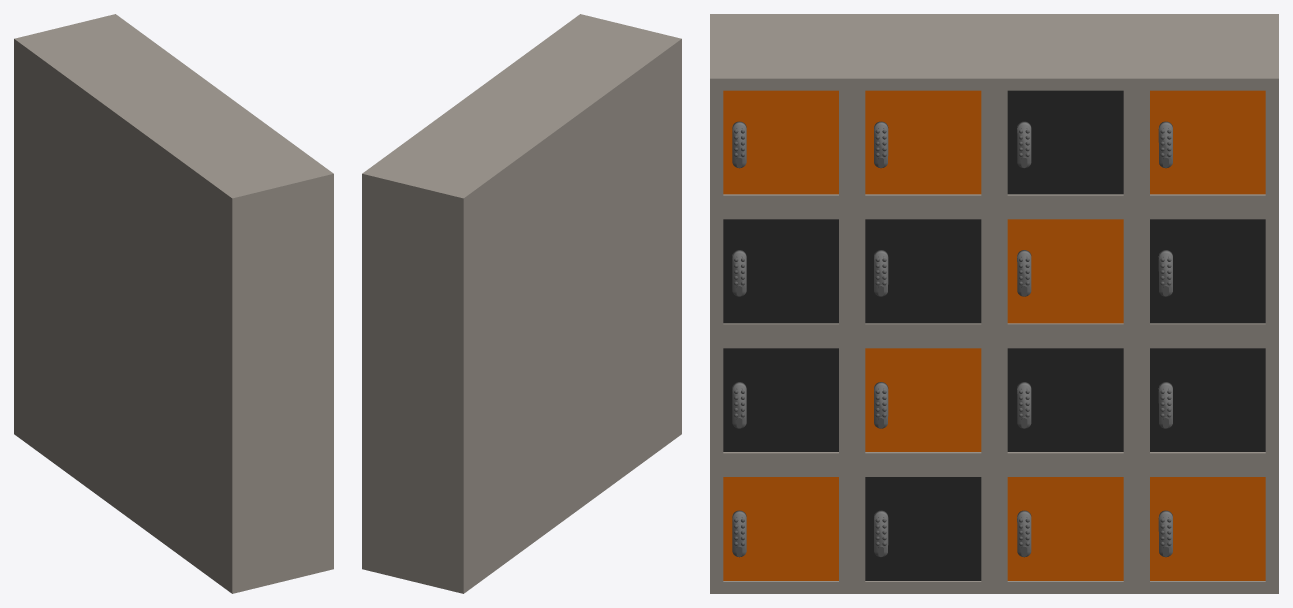
File: Lockers.fbx
3 renders of one model, left to right at view 1: azimuth 30°, elevation 25°; view 2: azimuth 150°, elevation 25°; view 3: azimuth 270°, elevation 25°, orthographic. The views are drawn at different scales.
Visible parts, largest first — view 1: Cube.020; view 2: Cube.020; view 3: Cube.020, Cube.034, Cube.035, Cube.021, Cube.024, Cube.022, Cube.023, Cube.030, Cube.031, Cube.033, Cube.036, Cube.025 (+5 smaller).
Part boxes in pixels (left/top/right/bottom): Cube.020: left=14, top=14, right=333, bottom=593; Cube.020: left=362, top=14, right=681, bottom=593; Cube.020: left=710, top=14, right=1278, bottom=593; Cube.034: left=1007, top=90, right=1123, bottom=194; Cube.035: left=1007, top=219, right=1123, bottom=323; Cube.021: left=865, top=219, right=981, bottom=323; Cube.024: left=865, top=90, right=981, bottom=194; Cube.022: left=723, top=219, right=838, bottom=323; Cube.023: left=723, top=90, right=838, bottom=194; Cube.030: left=1007, top=477, right=1123, bottom=580; Cube.031: left=1007, top=348, right=1123, bottom=451; Cube.033: left=1150, top=90, right=1265, bottom=194; Cube.036: left=1150, top=219, right=1265, bottom=323; Cube.025: left=865, top=348, right=981, bottom=451.
Size of the model in its own units: 2238 by 7955 by 7955.
